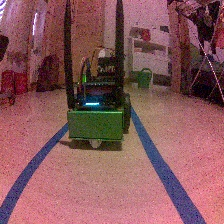rob: (65, 56, 131, 149)
